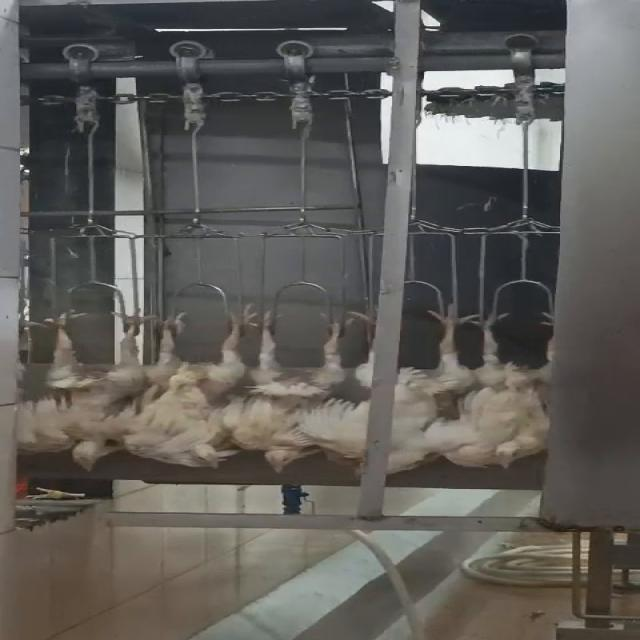chicken: (108, 304, 270, 472), (14, 306, 155, 472), (436, 304, 566, 473), (340, 303, 464, 473), (244, 310, 358, 475)
